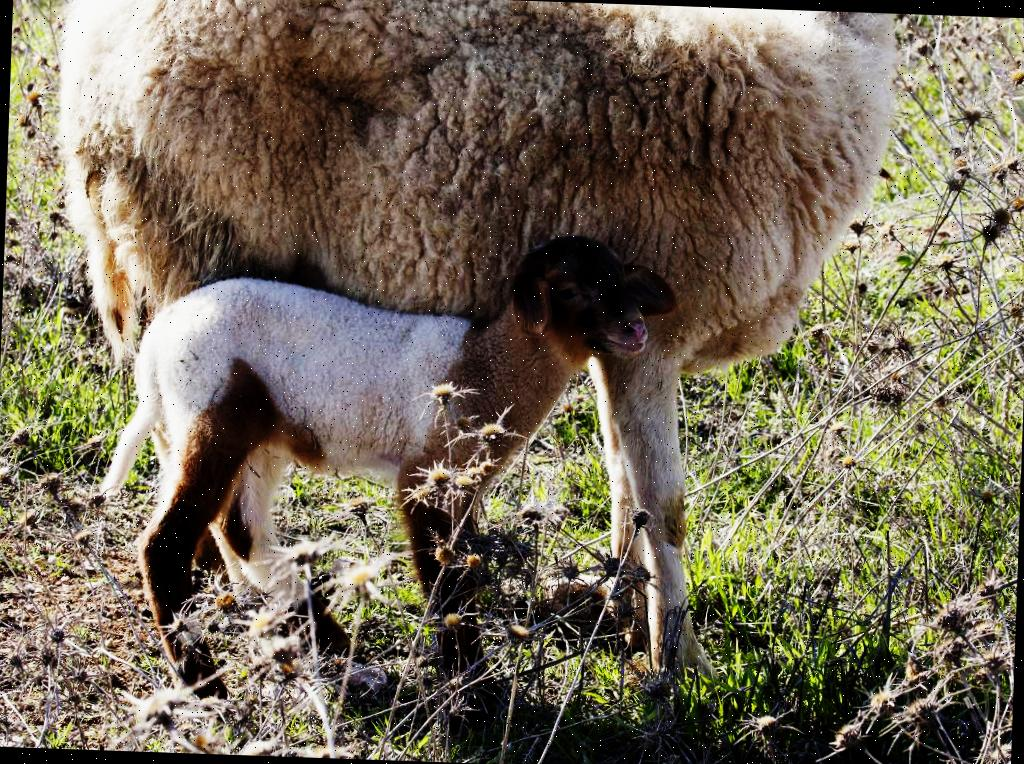Sheep: (47, 0, 893, 697), (88, 222, 670, 690)
